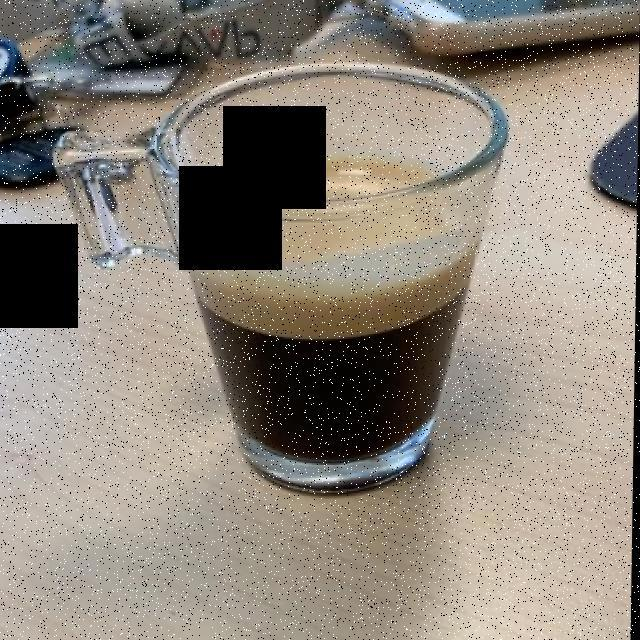espresso: (232, 158, 441, 201)
